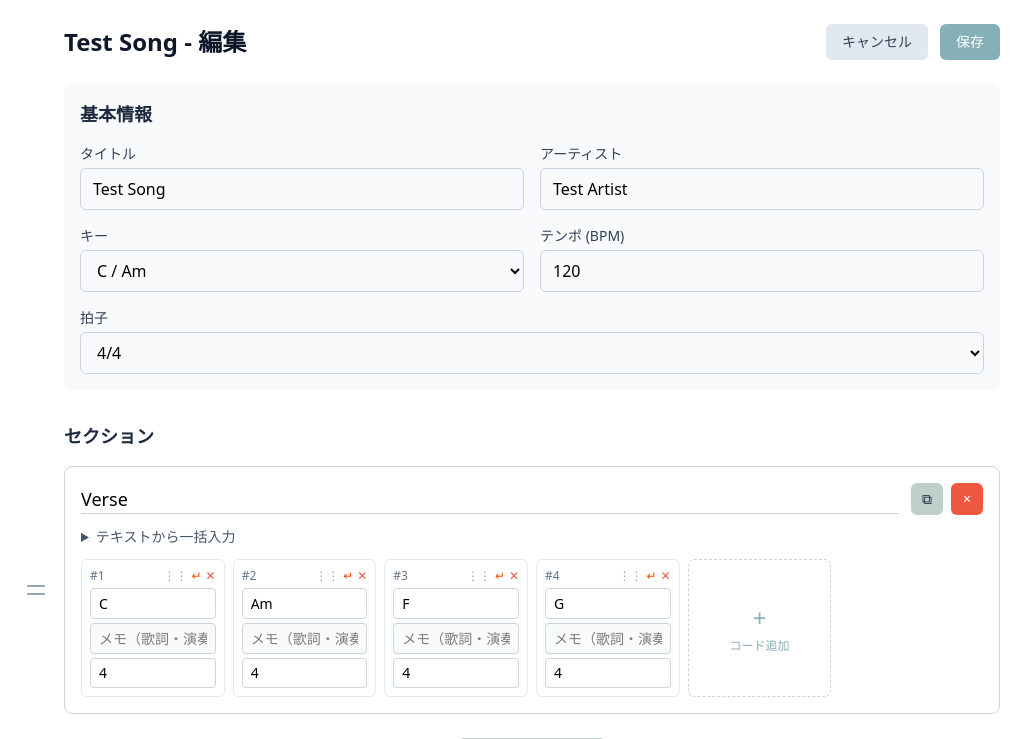
Test: ChordChartEditor › allows deleting a chord from section
Click the 1st button "✕" at [211, 576], box [206, 568, 216, 584]
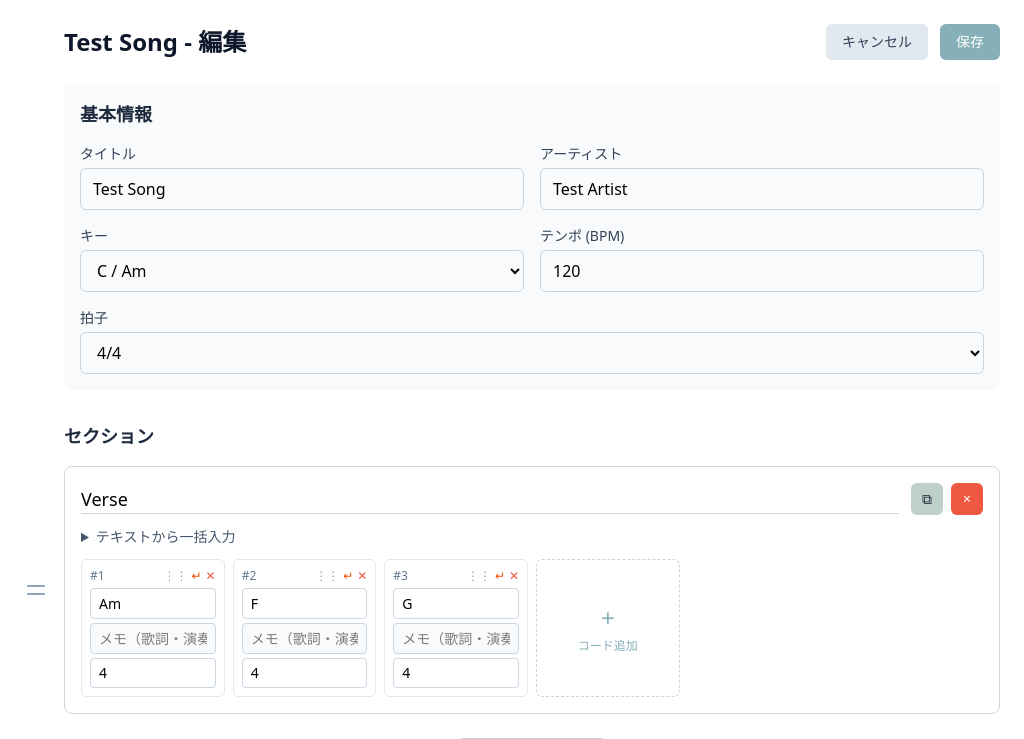
Check: the number of fields with placeholder "コード名" is 3, box [90, 588, 216, 619]; [242, 588, 367, 619]; [393, 588, 519, 619]
